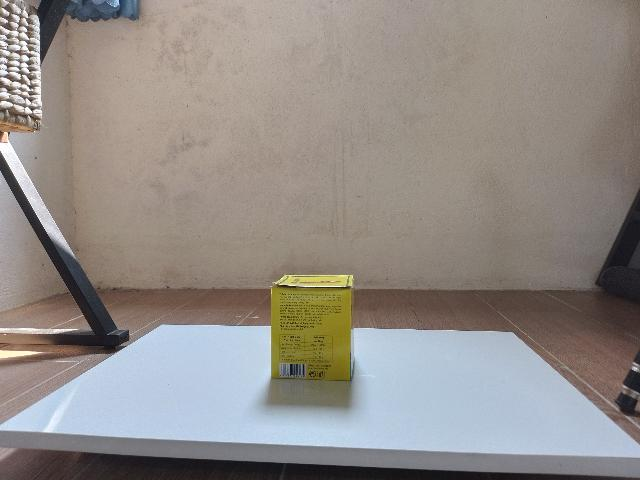luong_kho: (270, 274, 355, 382)
